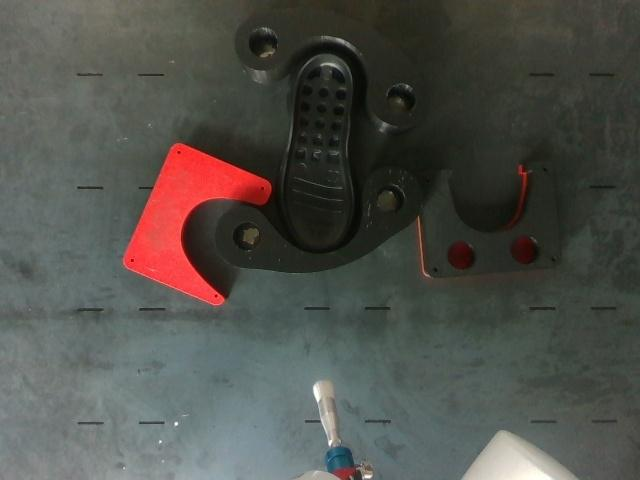shoes: (283, 54, 354, 251)
